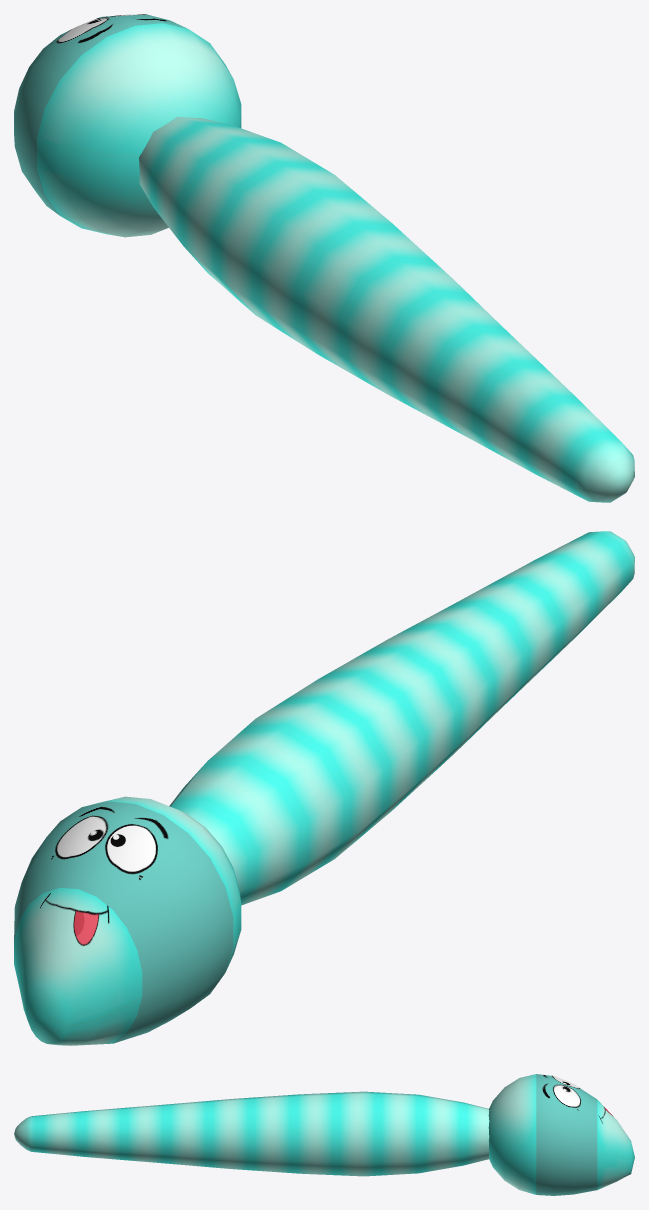
Rendered from SNAKE.FBX.
The picture shows the model from 3 angles, top to bottom: view 1: azimuth 30°, elevation 25°; view 2: azimuth 150°, elevation 25°; view 3: azimuth 270°, elevation 25°; orthographic projection. The views are drawn at different scales.
Parts seen in each view (by area): view 1: Cylinder002, Sphere002; view 2: Cylinder002, Sphere002; view 3: Cylinder002, Sphere002.
Part boxes in pixels (x1,y1,x2,y2): Cylinder002: [139, 116, 634, 502]; Sphere002: [14, 14, 241, 237]; Cylinder002: [169, 531, 634, 905]; Sphere002: [14, 796, 241, 1045]; Cylinder002: [14, 1091, 489, 1176]; Sphere002: [488, 1074, 634, 1195].
Bounding box in the file's own units: 0.3385 × 0.3391 × 1.73.
